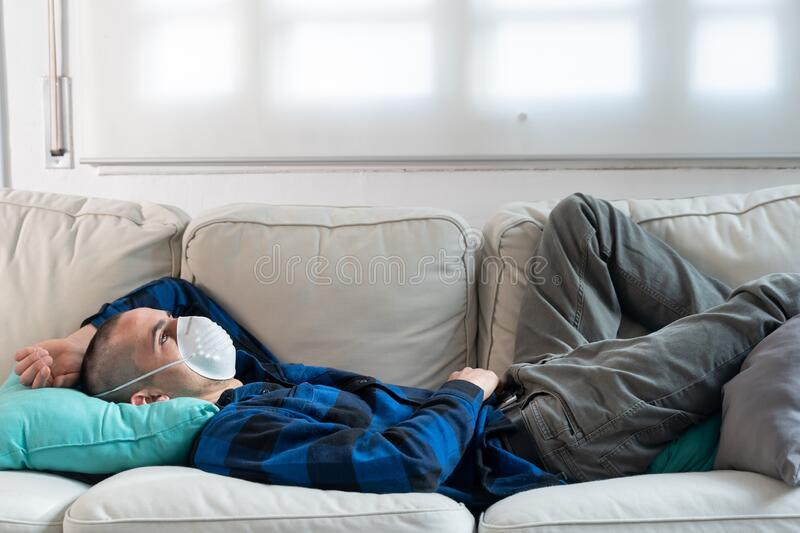OK: (118, 309, 238, 384)
